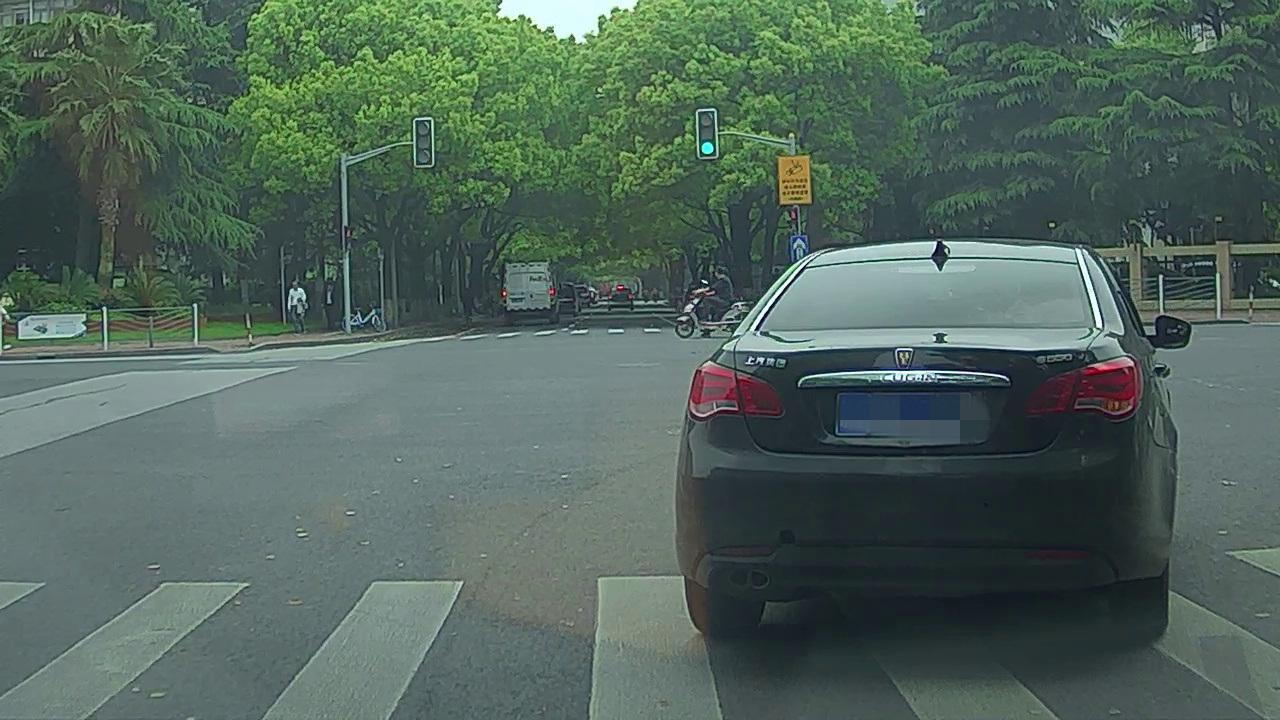traffic_light: (699, 109, 717, 155), (417, 119, 433, 165)
